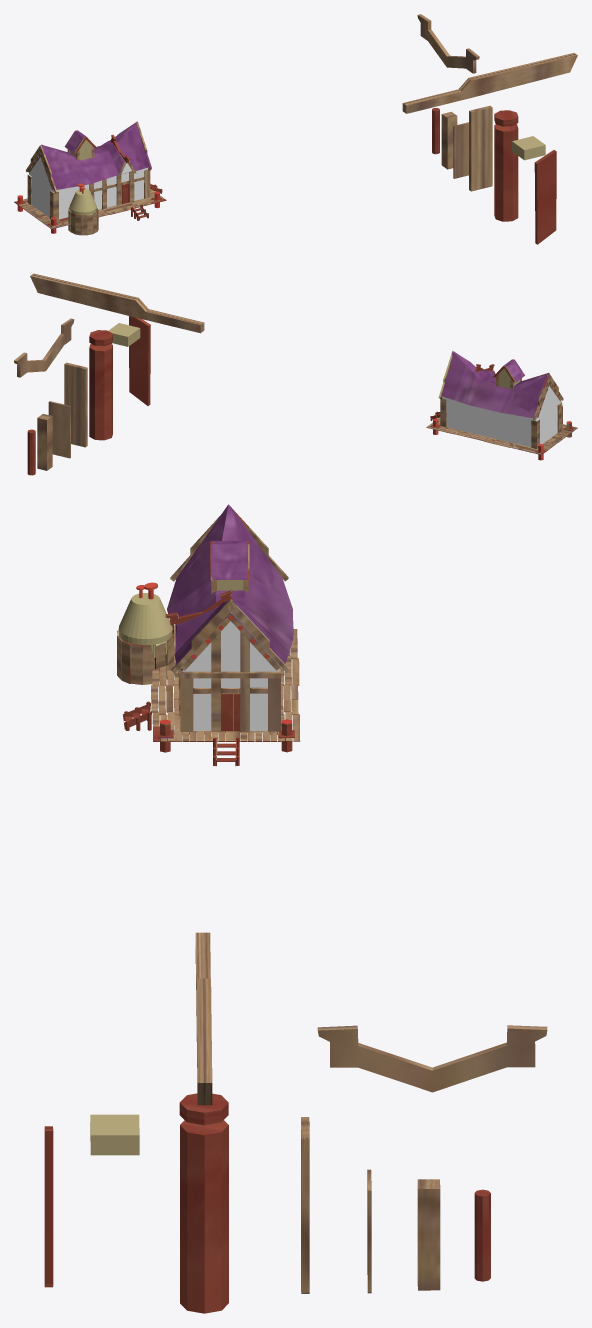
File: CasaRecu08.fbx
3 renders of one model, top to bottom at view 1: azimuth 30°, elevation 25°; view 2: azimuth 150°, elevation 25°; view 3: azimuth 270°, elevation 25°, orthographic. The views are drawn at different scales.
Visible parts, largest first — view 1: Casa, Cube.005, Cylinder.001, Cube, Cube.004, Cube.007, Cube.001, Cube.002, Cube.003, Cylinder.002, Cylinder; view 2: Casa, Cube.005, Cylinder.001, Cube, Cube.004, Cube.001, Cube.007, Cube.002, Cube.003, Cylinder.002, Cylinder; view 3: Casa, Cylinder.001, Cube.007, Cube.005, Cube.002, Cube.003, Cube.004, Cube, Cylinder.002, Cylinder.
Part boxes in pixels (x1,y1,x2,y2): Casa: (14, 121, 166, 235); Cube.005: (402, 53, 577, 113); Cylinder.001: (494, 124, 518, 221); Cube: (469, 105, 492, 191); Cube.004: (534, 150, 556, 244); Cube.007: (417, 14, 479, 73); Cube.001: (453, 122, 468, 178); Cube.002: (441, 111, 457, 169); Cube.003: (512, 136, 545, 160); Cylinder.002: (432, 108, 439, 154); Cylinder: (494, 110, 518, 126); Casa: (426, 350, 577, 460); Cube.005: (30, 273, 204, 333); Cylinder.001: (89, 343, 112, 440); Cube: (64, 362, 87, 447); Cube.004: (129, 316, 150, 405); Cube.001: (48, 401, 70, 458); Cube.007: (14, 318, 74, 377); Cube.002: (37, 414, 52, 470); Cube.003: (108, 323, 140, 346); Cylinder.002: (27, 429, 35, 475); Cylinder: (89, 330, 112, 346); Casa: (117, 504, 300, 766); Cylinder.001: (180, 1120, 228, 1313); Cube.007: (317, 1025, 547, 1092); Cube.005: (195, 932, 212, 1105); Cube.002: (417, 1179, 440, 1290); Cube.003: (90, 1114, 139, 1155); Cube.004: (44, 1126, 53, 1287); Cube: (301, 1117, 309, 1293); Cylinder.002: (474, 1189, 490, 1281); Cylinder: (179, 1093, 228, 1125).
Bounding box in the file's own units: 5033 × 1607 × 2056.
1 material, 1 textured.
